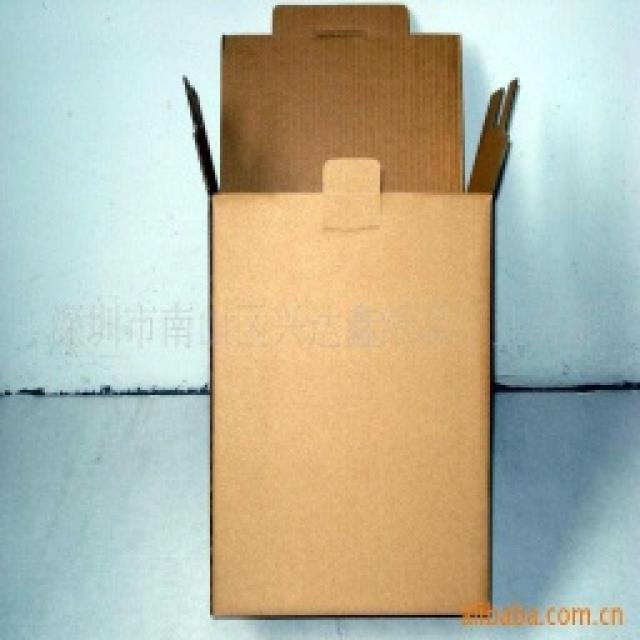box: (185, 17, 523, 640)
